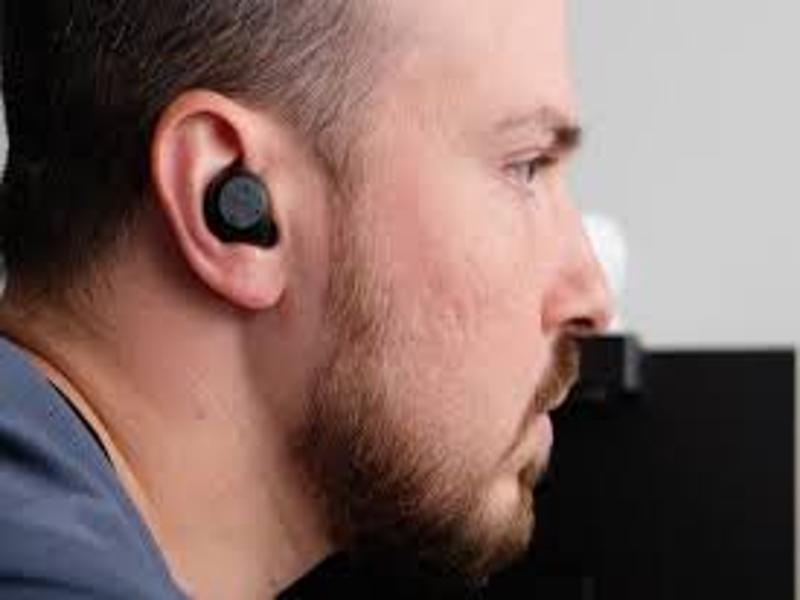headphone: (197, 174, 280, 246)
